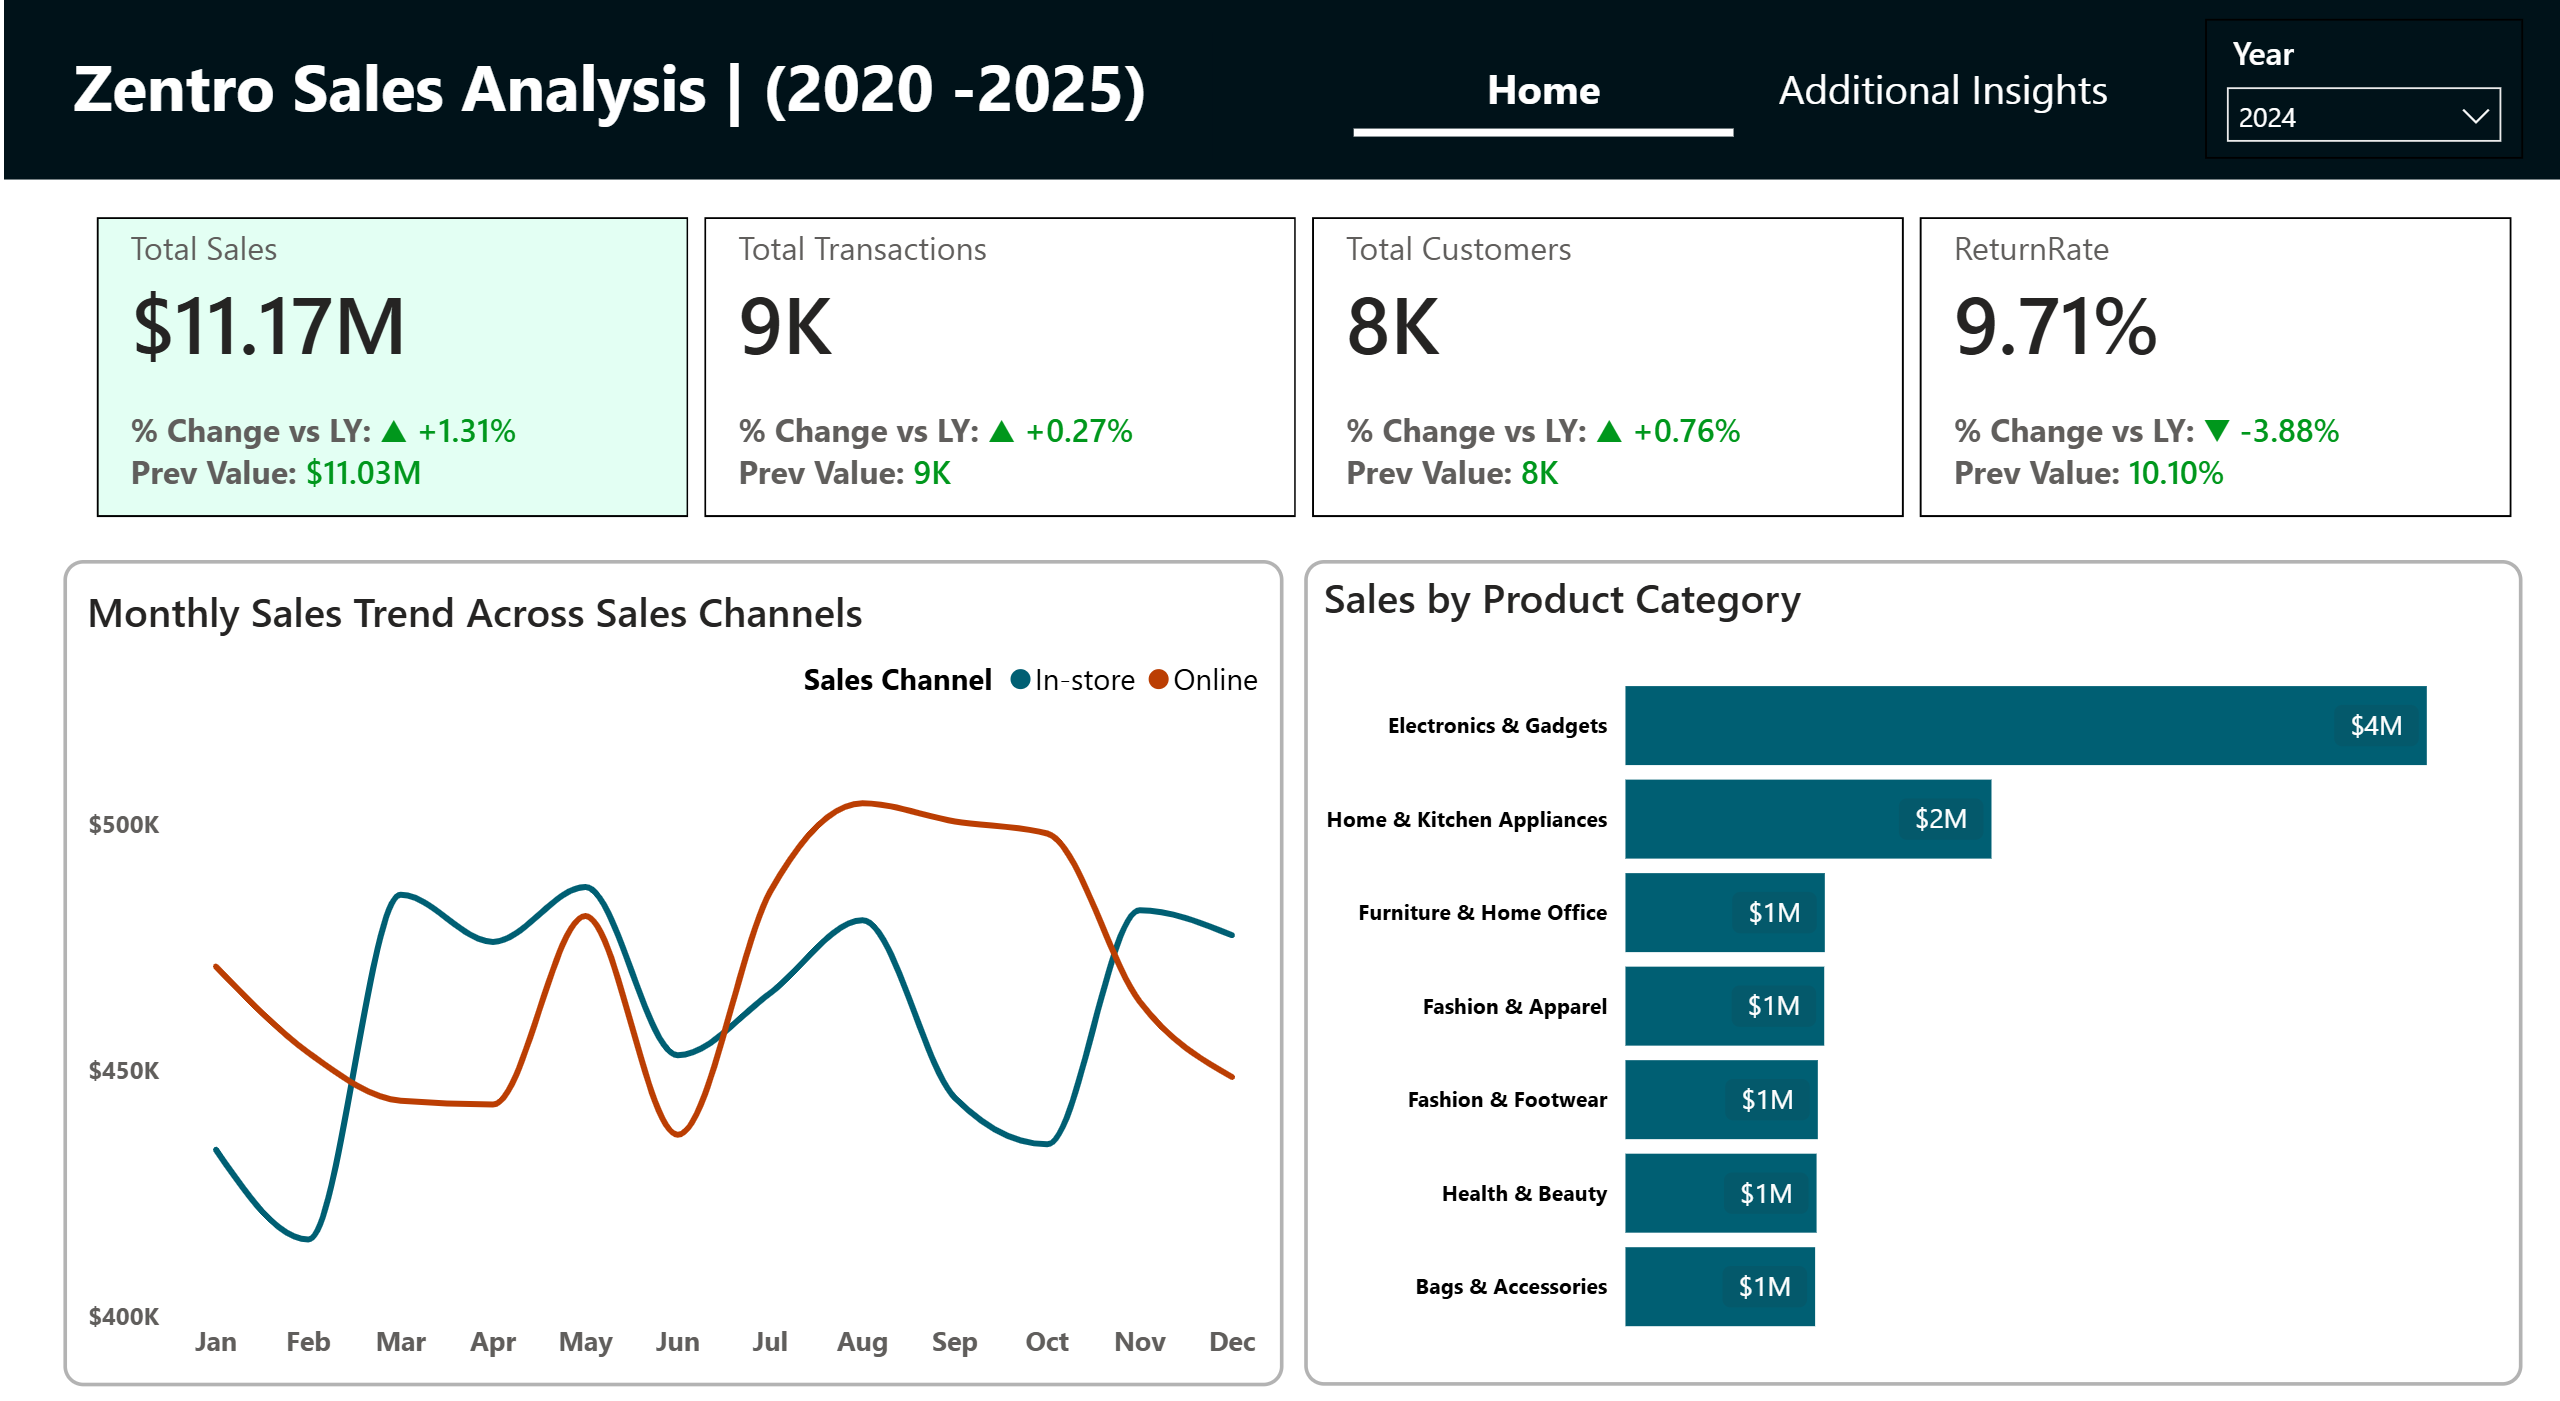

This screenshot's page, from the dashboard's own definition file:
{"tool":"powerbi","page":{"name":"Home","canvas":[1280,720],"ordinal":0},"visuals":[{"type":"shape","box":[0,0,1279.5,90.4],"z":0},{"type":"cardVisual","fields":{"Data":["_Measures.Total Sales","_Measures.Total Transactions","_Measures.Total Customers","_Measures.ReturnRate"]},"box":[40.5,104.4,1220.3,165.2],"z":1000},{"type":"slicer","fields":{"Values":["DateTable.Year"]},"box":[1100.3,9.4,159,70.1],"z":2000},{"type":"lineChart","title":"Monthly Sales Trend Across Sales Channels","fields":{"Y":["Sum(Zentro.SalesAmount)"],"Series":["Zentro.SalesChannel"],"Category":["DateTable.Month Name"]},"box":[30.3,280.1,610.2,413.4],"z":3000},{"type":"barChart","title":"Sales by Product Category","fields":{"Category":["Zentro.Product Category"],"Y":["Sum(Zentro.SalesAmount)"]},"box":[649.9,280.5,609.4,413],"z":4000},{"type":"pageNavigator","box":[675.3,19.3,395.9,49.9],"z":5000},{"type":"textbox","box":[29.8,15.8,574.6,63.9],"z":6000}]}

Visuals, with their boxes in screenshot pixels (x1, y1, x2, y2), scaled from the page's 1280x720 canvas onto the 2560x1401 screenshot:
shape: (x1=0, y1=0, x2=2559, y2=176)
cardVisual - _Measures.Total Sales x _Measures.Total Transactions: (x1=81, y1=203, x2=2522, y2=525)
slicer - DateTable.Year: (x1=2201, y1=18, x2=2519, y2=155)
"Monthly Sales Trend Across Sales Channels" lineChart: (x1=61, y1=545, x2=1281, y2=1349)
"Sales by Product Category" barChart: (x1=1300, y1=546, x2=2519, y2=1349)
pageNavigator: (x1=1351, y1=38, x2=2142, y2=135)
textbox: (x1=60, y1=31, x2=1209, y2=155)
